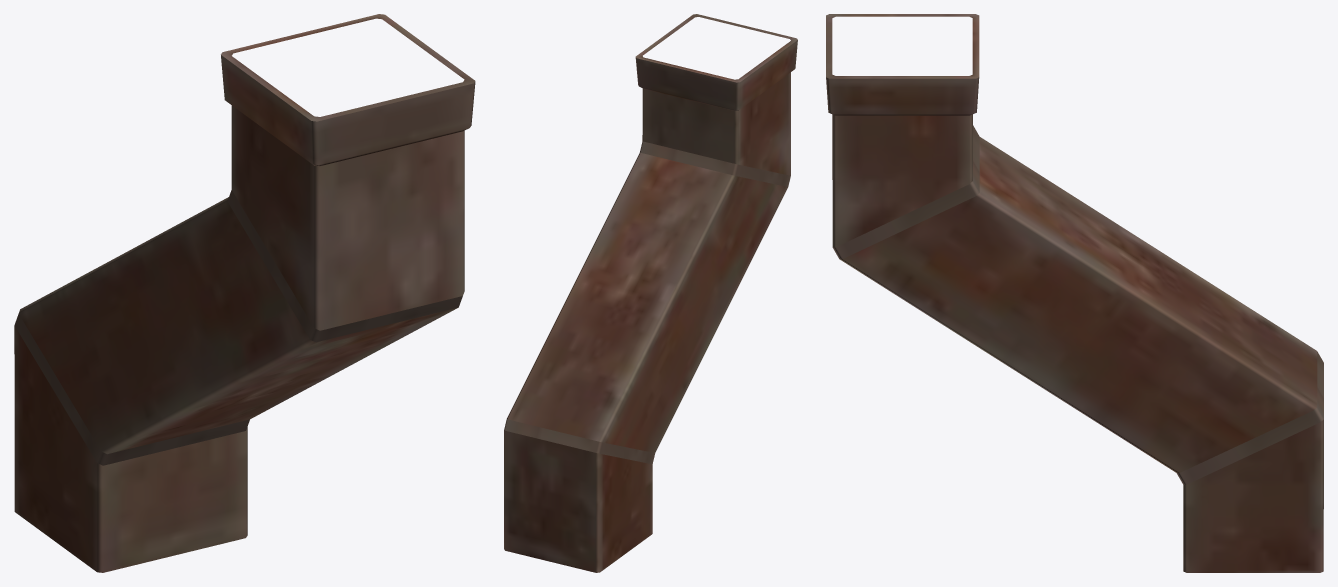
Rendered from gutter_overhang_250.glb.
3 views of the same model, side by side, from view 1: azimuth 30°, elevation 25°; view 2: azimuth 150°, elevation 25°; view 3: azimuth 270°, elevation 25° (orthographic). The views are drawn at different scales.
Visible parts, largest first — view 1: gutter_overhang_250; view 2: gutter_overhang_250; view 3: gutter_overhang_250.
Boxes of the visible parts, x1,y1,x2,y2 form: gutter_overhang_250: (14,14,475,572); gutter_overhang_250: (504,14,797,572); gutter_overhang_250: (826,14,1323,572).
Bounding box in the file's own units: 0.1092 × 0.3906 × 0.3548.
Materials: 1 (1 with a texture image).
